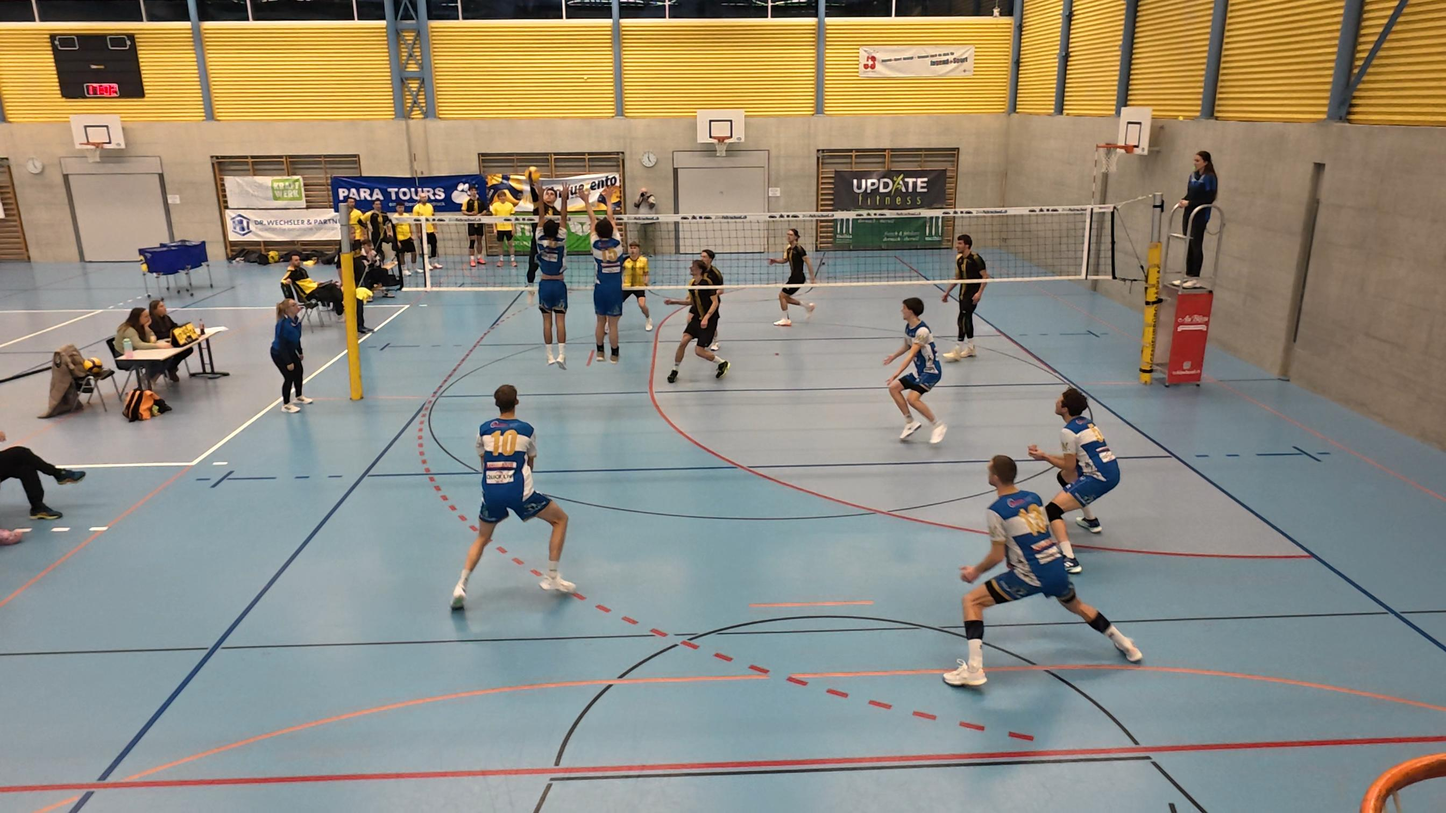Attack: (520, 161, 562, 296)
Block: (526, 191, 576, 369), (577, 187, 627, 363)
Player: (942, 454, 1142, 688), (451, 383, 579, 611), (1020, 387, 1119, 553), (884, 297, 948, 444), (663, 282, 729, 384), (683, 249, 729, 352), (949, 237, 987, 359), (775, 224, 813, 327), (616, 241, 653, 330)
ball: (523, 165, 541, 182)
